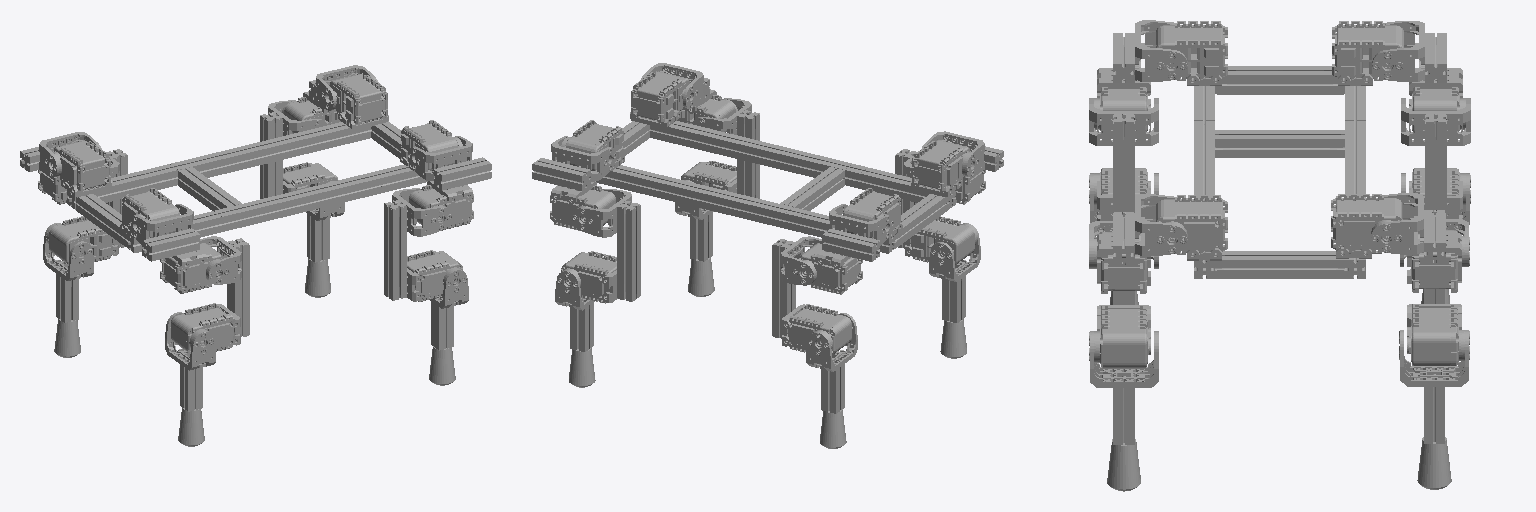
URDF robot description (sparky4):
<?xml version="1.0" encoding="utf-8"?>
<!-- =================================================================================== -->
<!-- |    This document was autogenerated by xacro from sparky4.xacro                  | -->
<!-- |    EDITING THIS FILE BY HAND IS NOT RECOMMENDED                                 | -->
<!-- =================================================================================== -->
<robot name="sparky4">
  <material name="silver">
    <color rgba="0.700 0.700 0.700 1.000"/>
  </material>
  <transmission name="rf1_tran">
    <type>transmission_interface/SimpleTransmission</type>
    <joint name="rf1">
      <hardwareInterface>hardware_interface/EffortJointInterface</hardwareInterface>
    </joint>
    <actuator name="rf1_actr">
      <hardwareInterface>hardware_interface/EffortJointInterface</hardwareInterface>
      <mechanicalReduction>1</mechanicalReduction>
    </actuator>
  </transmission>
  <transmission name="rf2_tran">
    <type>transmission_interface/SimpleTransmission</type>
    <joint name="rf2">
      <hardwareInterface>hardware_interface/EffortJointInterface</hardwareInterface>
    </joint>
    <actuator name="rf2_actr">
      <hardwareInterface>hardware_interface/EffortJointInterface</hardwareInterface>
      <mechanicalReduction>1</mechanicalReduction>
    </actuator>
  </transmission>
  <transmission name="rf3_tran">
    <type>transmission_interface/SimpleTransmission</type>
    <joint name="rf3">
      <hardwareInterface>hardware_interface/EffortJointInterface</hardwareInterface>
    </joint>
    <actuator name="rf3_actr">
      <hardwareInterface>hardware_interface/EffortJointInterface</hardwareInterface>
      <mechanicalReduction>1</mechanicalReduction>
    </actuator>
  </transmission>
  <transmission name="lf1_tran">
    <type>transmission_interface/SimpleTransmission</type>
    <joint name="lf1">
      <hardwareInterface>hardware_interface/EffortJointInterface</hardwareInterface>
    </joint>
    <actuator name="lf1_actr">
      <hardwareInterface>hardware_interface/EffortJointInterface</hardwareInterface>
      <mechanicalReduction>1</mechanicalReduction>
    </actuator>
  </transmission>
  <transmission name="lf2_tran">
    <type>transmission_interface/SimpleTransmission</type>
    <joint name="lf2">
      <hardwareInterface>hardware_interface/EffortJointInterface</hardwareInterface>
    </joint>
    <actuator name="lf2_actr">
      <hardwareInterface>hardware_interface/EffortJointInterface</hardwareInterface>
      <mechanicalReduction>1</mechanicalReduction>
    </actuator>
  </transmission>
  <transmission name="lf3_tran">
    <type>transmission_interface/SimpleTransmission</type>
    <joint name="lf3">
      <hardwareInterface>hardware_interface/EffortJointInterface</hardwareInterface>
    </joint>
    <actuator name="lf3_actr">
      <hardwareInterface>hardware_interface/EffortJointInterface</hardwareInterface>
      <mechanicalReduction>1</mechanicalReduction>
    </actuator>
  </transmission>
  <transmission name="rh1_tran">
    <type>transmission_interface/SimpleTransmission</type>
    <joint name="rh1">
      <hardwareInterface>hardware_interface/EffortJointInterface</hardwareInterface>
    </joint>
    <actuator name="rh1_actr">
      <hardwareInterface>hardware_interface/EffortJointInterface</hardwareInterface>
      <mechanicalReduction>1</mechanicalReduction>
    </actuator>
  </transmission>
  <transmission name="rh2_tran">
    <type>transmission_interface/SimpleTransmission</type>
    <joint name="rh2">
      <hardwareInterface>hardware_interface/EffortJointInterface</hardwareInterface>
    </joint>
    <actuator name="rh2_actr">
      <hardwareInterface>hardware_interface/EffortJointInterface</hardwareInterface>
      <mechanicalReduction>1</mechanicalReduction>
    </actuator>
  </transmission>
  <transmission name="rh3_tran">
    <type>transmission_interface/SimpleTransmission</type>
    <joint name="rh3">
      <hardwareInterface>hardware_interface/EffortJointInterface</hardwareInterface>
    </joint>
    <actuator name="rh3_actr">
      <hardwareInterface>hardware_interface/EffortJointInterface</hardwareInterface>
      <mechanicalReduction>1</mechanicalReduction>
    </actuator>
  </transmission>
  <transmission name="lh1_tran">
    <type>transmission_interface/SimpleTransmission</type>
    <joint name="lh1">
      <hardwareInterface>hardware_interface/EffortJointInterface</hardwareInterface>
    </joint>
    <actuator name="lh1_actr">
      <hardwareInterface>hardware_interface/EffortJointInterface</hardwareInterface>
      <mechanicalReduction>1</mechanicalReduction>
    </actuator>
  </transmission>
  <transmission name="lh2_tran">
    <type>transmission_interface/SimpleTransmission</type>
    <joint name="lh2">
      <hardwareInterface>hardware_interface/EffortJointInterface</hardwareInterface>
    </joint>
    <actuator name="lh2_actr">
      <hardwareInterface>hardware_interface/EffortJointInterface</hardwareInterface>
      <mechanicalReduction>1</mechanicalReduction>
    </actuator>
  </transmission>
  <transmission name="lh3_tran">
    <type>transmission_interface/SimpleTransmission</type>
    <joint name="lh3">
      <hardwareInterface>hardware_interface/EffortJointInterface</hardwareInterface>
    </joint>
    <actuator name="lh3_actr">
      <hardwareInterface>hardware_interface/EffortJointInterface</hardwareInterface>
      <mechanicalReduction>1</mechanicalReduction>
    </actuator>
  </transmission>
  <gazebo>
    <plugin filename="libgazebo_ros_control.so" name="control"/>
  </gazebo>
  <gazebo reference="base_link">
    <material>Gazebo/Silver</material>
    <selfCollide>true</selfCollide>
    <gravity>true</gravity>
  </gazebo>
  <gazebo reference="rf_hip_1">
    <material>Gazebo/Silver</material>
  </gazebo>
  <gazebo reference="rf_upper_1">
    <material>Gazebo/Silver</material>
  </gazebo>
  <gazebo reference="rf_lower_1">
    <material>Gazebo/Silver</material>
    <selfCollide>true</selfCollide>
    <mu1>0.9</mu1>
    <mu2>0.9</mu2>
    <minDepth>0.001</minDepth>
  </gazebo>
  <gazebo reference="lf_hip_1">
    <material>Gazebo/Silver</material>
  </gazebo>
  <gazebo reference="lf_upper_1">
    <material>Gazebo/Silver</material>
  </gazebo>
  <gazebo reference="lf_lower_1">
    <material>Gazebo/Silver</material>
    <selfCollide>true</selfCollide>
    <mu1>0.9</mu1>
    <mu2>0.9</mu2>
    <minDepth>0.001</minDepth>
  </gazebo>
  <gazebo reference="rh_hip_1">
    <material>Gazebo/Silver</material>
  </gazebo>
  <gazebo reference="rh_upper_1">
    <material>Gazebo/Silver</material>
  </gazebo>
  <gazebo reference="rh_lower_1">
    <material>Gazebo/Silver</material>
    <selfCollide>true</selfCollide>
    <mu1>0.9</mu1>
    <mu2>0.9</mu2>
    <minDepth>0.001</minDepth>
  </gazebo>
  <gazebo reference="lh_hip_1">
    <material>Gazebo/Silver</material>
  </gazebo>
  <gazebo reference="lh_upper_1">
    <material>Gazebo/Silver</material>
  </gazebo>
  <gazebo reference="lh_lower_1">
    <material>Gazebo/Silver</material>
    <mu1>0.9</mu1>
    <mu2>0.9</mu2>
    <minDepth>0.001</minDepth>
    <selfCollide>true</selfCollide>
  </gazebo>
  <link name="base_link">
    <inertial>
      <origin rpy="0 0 0" xyz="-0.0030445709897522553 0.0009159903249310375 0.02064399153635404"/>
      <mass value="2.767359729998042"/>
      <inertia ixx="0.008963" ixy="0.000112" ixz="-5.6e-05" iyy="0.043823" iyz="9e-06" izz="0.051668"/>
    </inertial>
    <visual>
      <origin rpy="0 0 0" xyz="0 0 0"/>
      <geometry>
        <mesh filename="package://sparky4_description/meshes/base_link.stl" scale="0.001 0.001 0.001"/>
      </geometry>
      <material name="silver"/>
    </visual>
    <collision>
      <origin rpy="0 0 0" xyz="0 0 0"/>
      <geometry>
        <mesh filename="package://sparky4_description/meshes/base_link.stl" scale="0.001 0.001 0.001"/>
      </geometry>
    </collision>
  </link>
  <link name="rf_hip_1">
    <inertial>
      <origin rpy="0 0 0" xyz="-0.02312045273011029 -0.030988365562342968 -0.02497288051171581"/>
      <mass value="0.06259861584578735"/>
      <inertia ixx="2.4e-05" ixy="-2e-06" ixz="-8e-06" iyy="3.3e-05" iyz="-4e-06" izz="2.7e-05"/>
    </inertial>
    <visual>
      <origin rpy="0 0 0" xyz="-0.15646 0.073945 -0.034286"/>
      <geometry>
        <mesh filename="package://sparky4_description/meshes/rf_hip_1.stl" scale="0.001 0.001 0.001"/>
      </geometry>
      <material name="silver"/>
    </visual>
    <collision>
      <origin rpy="0 0 0" xyz="-0.15646 0.073945 -0.034286"/>
      <geometry>
        <mesh filename="package://sparky4_description/meshes/rf_hip_1.stl" scale="0.001 0.001 0.001"/>
      </geometry>
    </collision>
  </link>
  <link name="rf_upper_1">
    <inertial>
      <origin rpy="0 0 0" xyz="-0.009414585800412531 0.01315168811465317 -0.04918651488271204"/>
      <mass value="0.5507860066210719"/>
      <inertia ixx="0.000457" ixy="2e-06" ixz="0.00012" iyy="0.000599" iyz="7e-06" izz="0.000262"/>
    </inertial>
    <visual>
      <origin rpy="0 0 0" xyz="-0.113842 0.121071 0.000254"/>
      <geometry>
        <mesh filename="package://sparky4_description/meshes/rf_upper_1.stl" scale="0.001 0.001 0.001"/>
      </geometry>
      <material name="silver"/>
    </visual>
    <collision>
      <origin rpy="0 0 0" xyz="-0.113842 0.121071 0.000254"/>
      <geometry>
        <mesh filename="package://sparky4_description/meshes/rf_upper_1.stl" scale="0.001 0.001 0.001"/>
      </geometry>
    </collision>
  </link>
  <link name="rf_lower_1">
    <inertial>
      <origin rpy="0 0 0" xyz="-0.0007153812152350114 0.01288818651473124 -0.056188682704720286"/>
      <mass value="0.029085864475835384"/>
      <inertia ixx="3.8e-05" ixy="0.0" ixz="-0.0" iyy="3.6e-05" iyz="1e-06" izz="4e-06"/>
    </inertial>
    <visual>
      <origin rpy="0 0 0" xyz="-0.129342 0.120985 0.065129"/>
      <geometry>
        <mesh filename="package://sparky4_description/meshes/rf_lower_1.stl" scale="0.001 0.001 0.001"/>
      </geometry>
      <material name="silver"/>
    </visual>
    <collision>
      <origin rpy="0 0 0" xyz="-0.129342 0.120985 0.065129"/>
      <geometry>
        <mesh filename="package://sparky4_description/meshes/rf_lower_1.stl" scale="0.001 0.001 0.001"/>
      </geometry>
    </collision>
  </link>
  <link name="lf_hip_1">
    <inertial>
      <origin rpy="0 0 0" xyz="-0.02312044219188225 0.03098843746715446 -0.024972883319291497"/>
      <mass value="0.06259859550258465"/>
      <inertia ixx="2.4e-05" ixy="2e-06" ixz="-8e-06" iyy="3.3e-05" iyz="4e-06" izz="2.7e-05"/>
    </inertial>
    <visual>
      <origin rpy="0 0 0" xyz="-0.15347 -0.075135 -0.034036"/>
      <geometry>
        <mesh filename="package://sparky4_description/meshes/lf_hip_1.stl" scale="0.001 0.001 0.001"/>
      </geometry>
      <material name="silver"/>
    </visual>
    <collision>
      <origin rpy="0 0 0" xyz="-0.15347 -0.075135 -0.034036"/>
      <geometry>
        <mesh filename="package://sparky4_description/meshes/lf_hip_1.stl" scale="0.001 0.001 0.001"/>
      </geometry>
    </collision>
  </link>
  <link name="lf_upper_1">
    <inertial>
      <origin rpy="0 0 0" xyz="-0.009414594526368836 -0.013151561436452477 -0.0491865724321654"/>
      <mass value="0.5507853722308999"/>
      <inertia ixx="0.000457" ixy="-2e-06" ixz="0.00012" iyy="0.000599" iyz="-7e-06" izz="0.000262"/>
    </inertial>
    <visual>
      <origin rpy="0 0 0" xyz="-0.110852 -0.122261 0.000504"/>
      <geometry>
        <mesh filename="package://sparky4_description/meshes/lf_upper_1.stl" scale="0.001 0.001 0.001"/>
      </geometry>
      <material name="silver"/>
    </visual>
    <collision>
      <origin rpy="0 0 0" xyz="-0.110852 -0.122261 0.000504"/>
      <geometry>
        <mesh filename="package://sparky4_description/meshes/lf_upper_1.stl" scale="0.001 0.001 0.001"/>
      </geometry>
    </collision>
  </link>
  <link name="lf_lower_1">
    <inertial>
      <origin rpy="0 0 0" xyz="-0.0007153812247730207 -0.012888070070416396 -0.056188683453603866"/>
      <mass value="0.029085864088178818"/>
      <inertia ixx="3.8e-05" ixy="-0.0" ixz="-0.0" iyy="3.6e-05" iyz="-1e-06" izz="4e-06"/>
    </inertial>
    <visual>
      <origin rpy="0 0 0" xyz="-0.126352 -0.122175 0.065379"/>
      <geometry>
        <mesh filename="package://sparky4_description/meshes/lf_lower_1.stl" scale="0.001 0.001 0.001"/>
      </geometry>
      <material name="silver"/>
    </visual>
    <collision>
      <origin rpy="0 0 0" xyz="-0.126352 -0.122175 0.065379"/>
      <geometry>
        <mesh filename="package://sparky4_description/meshes/lf_lower_1.stl" scale="0.001 0.001 0.001"/>
      </geometry>
    </collision>
  </link>
  <link name="rh_hip_1">
    <inertial>
      <origin rpy="0 0 0" xyz="0.023120047678799965 -0.030988320987065388 -0.02497288331928113"/>
      <mass value="0.06259859550258465"/>
      <inertia ixx="2.4e-05" ixy="2e-06" ixz="8e-06" iyy="3.3e-05" iyz="-4e-06" izz="2.7e-05"/>
    </inertial>
    <visual>
      <origin rpy="0 0 0" xyz="0.157114 0.073945 -0.034286"/>
      <geometry>
        <mesh filename="package://sparky4_description/meshes/rh_hip_1.stl" scale="0.001 0.001 0.001"/>
      </geometry>
      <material name="silver"/>
    </visual>
    <collision>
      <origin rpy="0 0 0" xyz="0.157114 0.073945 -0.034286"/>
      <geometry>
        <mesh filename="package://sparky4_description/meshes/rh_hip_1.stl" scale="0.001 0.001 0.001"/>
      </geometry>
    </collision>
  </link>
  <link name="rh_upper_1">
    <inertial>
      <origin rpy="0 0 0" xyz="0.009415200013284095 0.01315167791654151 -0.049186572432156295"/>
      <mass value="0.5507853722308999"/>
      <inertia ixx="0.000457" ixy="-2e-06" ixz="-0.00012" iyy="0.000599" iyz="7e-06" izz="0.000262"/>
    </inertial>
    <visual>
      <origin rpy="0 0 0" xyz="0.114497 0.121071 0.000254"/>
      <geometry>
        <mesh filename="package://sparky4_description/meshes/rh_upper_1.stl" scale="0.001 0.001 0.001"/>
      </geometry>
      <material name="silver"/>
    </visual>
    <collision>
      <origin rpy="0 0 0" xyz="0.114497 0.121071 0.000254"/>
      <geometry>
        <mesh filename="package://sparky4_description/meshes/rh_upper_1.stl" scale="0.001 0.001 0.001"/>
      </geometry>
    </collision>
  </link>
  <link name="rh_lower_1">
    <inertial>
      <origin rpy="0 0 0" xyz="0.0007159867116854346 0.012888186550505248 -0.056188683453593596"/>
      <mass value="0.029085864088178818"/>
      <inertia ixx="3.8e-05" ixy="-0.0" ixz="0.0" iyy="3.6e-05" iyz="1e-06" izz="4e-06"/>
    </inertial>
    <visual>
      <origin rpy="0 0 0" xyz="0.129997 0.120985 0.065129"/>
      <geometry>
        <mesh filename="package://sparky4_description/meshes/rh_lower_1.stl" scale="0.001 0.001 0.001"/>
      </geometry>
      <material name="silver"/>
    </visual>
    <collision>
      <origin rpy="0 0 0" xyz="0.129997 0.120985 0.065129"/>
      <geometry>
        <mesh filename="package://sparky4_description/meshes/rh_lower_1.stl" scale="0.001 0.001 0.001"/>
      </geometry>
    </collision>
  </link>
  <link name="lh_hip_1">
    <inertial>
      <origin rpy="0 0 0" xyz="0.023120558217028325 0.030988482042433027 -0.024972880511715034"/>
      <mass value="0.06259861584578735"/>
      <inertia ixx="2.4e-05" ixy="-2e-06" ixz="8e-06" iyy="3.3e-05" iyz="4e-06" izz="2.7e-05"/>
    </inertial>
    <visual>
      <origin rpy="0 0 0" xyz="0.157043 -0.076035 -0.034296"/>
      <geometry>
        <mesh filename="package://sparky4_description/meshes/lh_hip_1.stl" scale="0.001 0.001 0.001"/>
      </geometry>
      <material name="silver"/>
    </visual>
    <collision>
      <origin rpy="0 0 0" xyz="0.157043 -0.076035 -0.034296"/>
      <geometry>
        <mesh filename="package://sparky4_description/meshes/lh_hip_1.stl" scale="0.001 0.001 0.001"/>
      </geometry>
    </collision>
  </link>
  <link name="lh_upper_1">
    <inertial>
      <origin rpy="0 0 0" xyz="0.009414691287327429 -0.013151571634563472 -0.04918651488271246"/>
      <mass value="0.5507860066210719"/>
      <inertia ixx="0.000457" ixy="2e-06" ixz="-0.00012" iyy="0.000599" iyz="-7e-06" izz="0.000262"/>
    </inertial>
    <visual>
      <origin rpy="0 0 0" xyz="0.114425 -0.123161 0.000244"/>
      <geometry>
        <mesh filename="package://sparky4_description/meshes/lh_upper_1.stl" scale="0.001 0.001 0.001"/>
      </geometry>
      <material name="silver"/>
    </visual>
    <collision>
      <origin rpy="0 0 0" xyz="0.114425 -0.123161 0.000244"/>
      <geometry>
        <mesh filename="package://sparky4_description/meshes/lh_upper_1.stl" scale="0.001 0.001 0.001"/>
      </geometry>
    </collision>
  </link>
  <link name="lh_lower_1">
    <inertial>
      <origin rpy="0 0 0" xyz="-0.0007157171931690964 -0.012888070070414509 -0.05618868345359837"/>
      <mass value="0.029085864088178818"/>
      <inertia ixx="3.8e-05" ixy="-0.0" ixz="-0.0" iyy="3.6e-05" iyz="-1e-06" izz="4e-06"/>
    </inertial>
    <visual>
      <origin rpy="0 0 0" xyz="0.129925 -0.123075 0.065119"/>
      <geometry>
        <mesh filename="package://sparky4_description/meshes/lh_lower_1.stl" scale="0.001 0.001 0.001"/>
      </geometry>
      <material name="silver"/>
    </visual>
    <collision>
      <origin rpy="0 0 0" xyz="0.129925 -0.123075 0.065119"/>
      <geometry>
        <mesh filename="package://sparky4_description/meshes/lh_lower_1.stl" scale="0.001 0.001 0.001"/>
      </geometry>
    </collision>
  </link>
  <joint name="rf1" type="revolute">
    <origin rpy="0 0 0" xyz="0.15646 -0.073945 0.034286"/>
    <parent link="base_link"/>
    <child link="rf_hip_1"/>
    <axis xyz="1.0 0.0 -0.0"/>
    <limit effort="50" lower="-3.14159265359" upper="3.14159265359" velocity="5"/>
  </joint>
  <joint name="rf2" type="revolute">
    <origin rpy="0 0 0" xyz="-0.042618 -0.047126 -0.03454"/>
    <parent link="rf_hip_1"/>
    <child link="rf_upper_1"/>
    <axis xyz="0.0 1.0 0.0"/>
    <limit effort="50" lower="-3.14159265359" upper="3.14159265359" velocity="5"/>
  </joint>
  <joint name="rf3" type="revolute">
    <origin rpy="0 0 0" xyz="0.0155 8.6e-05 -0.064875"/>
    <parent link="rf_upper_1"/>
    <child link="rf_lower_1"/>
    <axis xyz="-0.0 1.0 0.0"/>
    <limit effort="50" lower="-3.14159265359" upper="3.14159265359" velocity="5"/>
  </joint>
  <joint name="lf1" type="revolute">
    <origin rpy="0 0 0" xyz="0.15347 0.075135 0.034036"/>
    <parent link="base_link"/>
    <child link="lf_hip_1"/>
    <axis xyz="1.0 0.0 -0.0"/>
    <limit effort="50" lower="-3.14159265359" upper="3.14159265359" velocity="5"/>
  </joint>
  <joint name="lf2" type="revolute">
    <origin rpy="0 0 0" xyz="-0.042618 0.047126 -0.03454"/>
    <parent link="lf_hip_1"/>
    <child link="lf_upper_1"/>
    <axis xyz="0.0 1.0 0.0"/>
    <limit effort="50" lower="-3.14159265359" upper="3.14159265359" velocity="5"/>
  </joint>
  <joint name="lf3" type="revolute">
    <origin rpy="0 0 0" xyz="0.0155 -8.6e-05 -0.064875"/>
    <parent link="lf_upper_1"/>
    <child link="lf_lower_1"/>
    <axis xyz="0.0 1.0 0.0"/>
    <limit effort="50" lower="-3.14159265359" upper="3.14159265359" velocity="5"/>
  </joint>
  <joint name="rh1" type="revolute">
    <origin rpy="0 0 0" xyz="-0.157114 -0.073945 0.034286"/>
    <parent link="base_link"/>
    <child link="rh_hip_1"/>
    <axis xyz="1.0 0.0 0.0"/>
    <limit effort="50" lower="-3.14159265359" upper="3.14159265359" velocity="5"/>
  </joint>
  <joint name="rh2" type="revolute">
    <origin rpy="0 0 0" xyz="0.042617 -0.047126 -0.03454"/>
    <parent link="rh_hip_1"/>
    <child link="rh_upper_1"/>
    <axis xyz="-0.0 1.0 0.0"/>
    <limit effort="50" lower="-3.14159265359" upper="3.14159265359" velocity="5"/>
  </joint>
  <joint name="rh3" type="revolute">
    <origin rpy="0 0 0" xyz="-0.0155 8.6e-05 -0.064875"/>
    <parent link="rh_upper_1"/>
    <child link="rh_lower_1"/>
    <axis xyz="-0.0 1.0 0.0"/>
    <limit effort="50" lower="-3.14159265359" upper="3.14159265359" velocity="5"/>
  </joint>
  <joint name="lh1" type="revolute">
    <origin rpy="0 0 0" xyz="-0.157043 0.076035 0.034296"/>
    <parent link="base_link"/>
    <child link="lh_hip_1"/>
    <axis xyz="-1.0 -0.0 0.0"/>
    <limit effort="50" lower="-3.14159265359" upper="3.14159265359" velocity="5"/>
  </joint>
  <joint name="lh2" type="revolute">
    <origin rpy="0 0 0" xyz="0.042618 0.047126 -0.03454"/>
    <parent link="lh_hip_1"/>
    <child link="lh_upper_1"/>
    <axis xyz="-0.0 1.0 -0.0"/>
    <limit effort="50" lower="-3.14159265359" upper="3.14159265359" velocity="5"/>
  </joint>
  <joint name="lh3" type="revolute">
    <origin rpy="0 0 0" xyz="-0.0155 -8.6e-05 -0.064875"/>
    <parent link="lh_upper_1"/>
    <child link="lh_lower_1"/>
    <axis xyz="0.0 1.0 -0.0"/>
    <limit effort="50" lower="-3.14159265359" upper="3.14159265359" velocity="5"/>
  </joint>
  <!--added stuff for compatibility with CHAMP Quadruped Gait Package-->
  <link name="rf_foot"/>
  <joint name="rf_foot_to_lower_leg" type="fixed">
    <parent link="rf_lower_1"/>
    <child link="rf_foot"/>
    <origin rpy="0 0 0" xyz="0 .014 -.11"/>
  </joint>
  <link name="lf_foot"/>
  <joint name="lf_foot_to_lower_leg" type="fixed">
    <parent link="lf_lower_1"/>
    <child link="lf_foot"/>
    <origin rpy="0 0 0" xyz="0 -.014 -.11"/>
  </joint>
  <link name="rh_foot"/>
  <joint name="rh_foot_to_lower_leg" type="fixed">
    <parent link="rh_lower_1"/>
    <child link="rh_foot"/>
    <origin rpy="0 0 0" xyz="0 .014 -.11"/>
  </joint>
  <link name="lh_foot"/>
  <joint name="lh_foot_to_lower_leg" type="fixed">
    <parent link="lh_lower_1"/>
    <child link="lh_foot"/>
    <origin rpy="0 0 0" xyz="0 -.014 -.11"/>
  </joint>
</robot>

--- Render facts (derived) ---
The picture shows the robot from 3 angles, left to right: view 1: azimuth 30°, elevation 25°; view 2: azimuth 150°, elevation 25°; view 3: azimuth 270°, elevation 25°; orthographic projection.
Model sparky4 with 17 links and 16 joints (12 revolute, 4 fixed), rooted at base_link, posed every joint at zero.
Visible links, largest first — view 1: base_link, rf_upper_1, rh_upper_1, rh_hip_1, rf_hip_1, rh_lower_1, lf_upper_1, lh_lower_1, rf_lower_1, lh_upper_1, lf_lower_1, lf_hip_1 (+1 smaller); view 2: base_link, lf_upper_1, lh_upper_1, lh_hip_1, lf_hip_1, rf_upper_1, lh_lower_1, rh_lower_1, lf_lower_1, rh_upper_1, rf_lower_1, rf_hip_1 (+1 smaller); view 3: base_link, lf_hip_1, rf_hip_1, rh_upper_1, lh_upper_1, rh_hip_1, lh_hip_1, rf_lower_1, lf_lower_1, rf_upper_1, lf_upper_1, lh_lower_1 (+1 smaller).
Boxes of the visible links, x1=… form: base_link: x1=53, y1=74, x2=459, y2=252; rf_upper_1: x1=384, y1=188, x2=462, y2=301; rh_upper_1: x1=171, y1=236, x2=249, y2=353; rh_hip_1: x1=129, y1=204, x2=224, y2=293; rf_hip_1: x1=408, y1=136, x2=491, y2=230; rh_lower_1: x1=165, y1=312, x2=215, y2=446; lf_upper_1: x1=260, y1=100, x2=337, y2=198; lh_lower_1: x1=43, y1=223, x2=93, y2=357; rf_lower_1: x1=429, y1=250, x2=468, y2=385; lh_upper_1: x1=49, y1=149, x2=127, y2=264; lf_lower_1: x1=305, y1=163, x2=344, y2=297; lf_hip_1: x1=284, y1=65, x2=378, y2=133; base_link: x1=565, y1=71, x2=970, y2=253; lf_upper_1: x1=561, y1=189, x2=640, y2=303; lh_upper_1: x1=772, y1=236, x2=851, y2=354; lh_hip_1: x1=798, y1=204, x2=893, y2=294; lf_hip_1: x1=532, y1=136, x2=616, y2=231; rf_upper_1: x1=681, y1=98, x2=759, y2=198; lh_lower_1: x1=806, y1=313, x2=857, y2=448; rh_lower_1: x1=929, y1=223, x2=980, y2=358; lf_lower_1: x1=555, y1=251, x2=595, y2=387; rh_upper_1: x1=895, y1=149, x2=974, y2=264; rf_lower_1: x1=675, y1=161, x2=714, y2=296; rf_hip_1: x1=641, y1=63, x2=735, y2=132; base_link: x1=1156, y1=21, x2=1403, y2=278; lf_hip_1: x1=1371, y1=193, x2=1461, y2=292; rf_hip_1: x1=1097, y1=194, x2=1187, y2=293; rh_upper_1: x1=1089, y1=98, x2=1158, y2=227; lh_upper_1: x1=1401, y1=98, x2=1470, y2=225; rh_hip_1: x1=1097, y1=20, x2=1187, y2=131; lh_hip_1: x1=1372, y1=21, x2=1462, y2=131; rf_lower_1: x1=1089, y1=331, x2=1158, y2=491; lf_lower_1: x1=1399, y1=330, x2=1469, y2=489; rf_upper_1: x1=1089, y1=212, x2=1158, y2=367; lf_upper_1: x1=1400, y1=210, x2=1469, y2=365; lh_lower_1: x1=1401, y1=173, x2=1470, y2=303.
Size in the robot's own frame: 0.3556 by 0.2656 by 0.2255 metres.
13 mesh visuals loaded from 13 distinct referenced files (13 binary STL).
